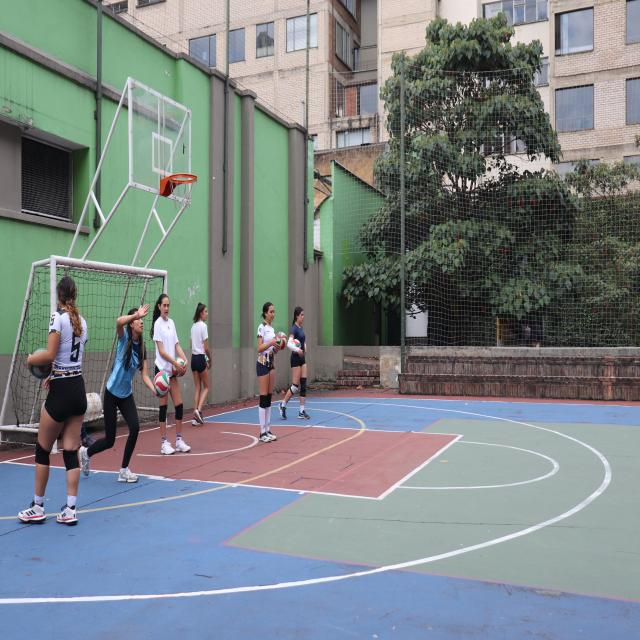volleyball: (153, 370, 171, 398), (172, 356, 184, 378), (275, 332, 287, 351), (292, 339, 300, 349)
